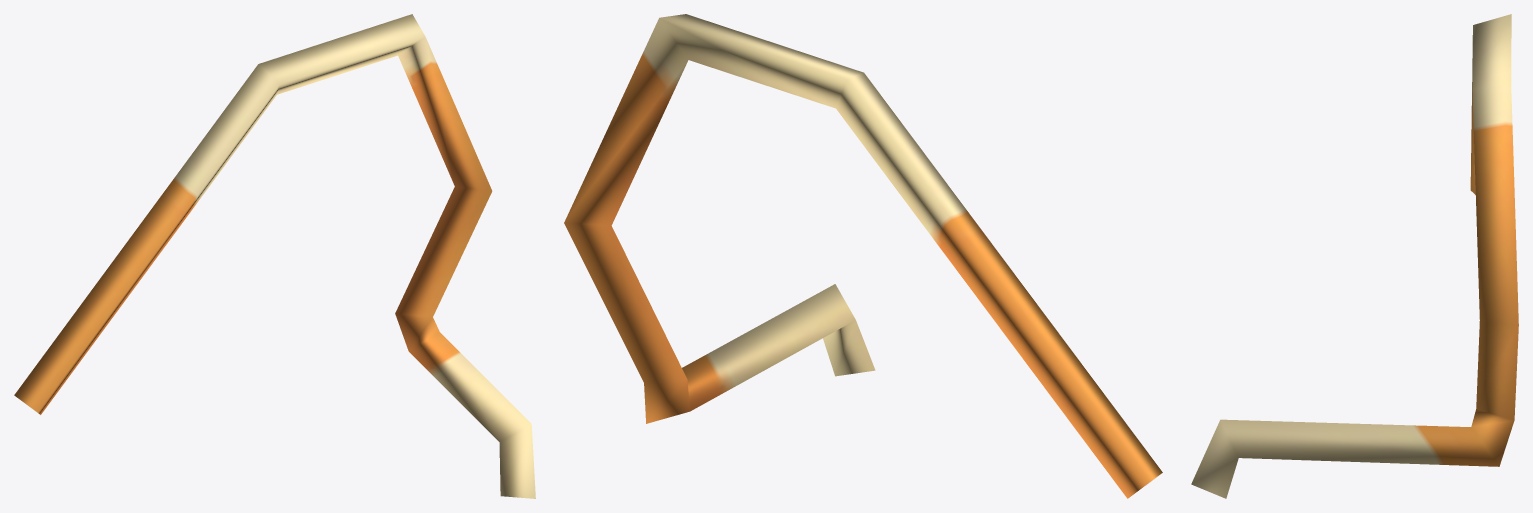
File: sundries_36_fa469e6d__ZombiesII_depot_diffuse_03_573b45f4_c1f257.obj
3 views of the same model, side by side, from view 1: azimuth 30°, elevation 25°; view 2: azimuth 150°, elevation 25°; view 3: azimuth 270°, elevation 25° (orthographic). The views are drawn at different scales.
Size of the model in its own units: 1.96 by 1.52 by 1.06.
Materials: 1 (1 with a texture image).
